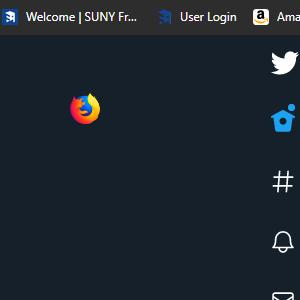firefox: (69, 92, 101, 125)
